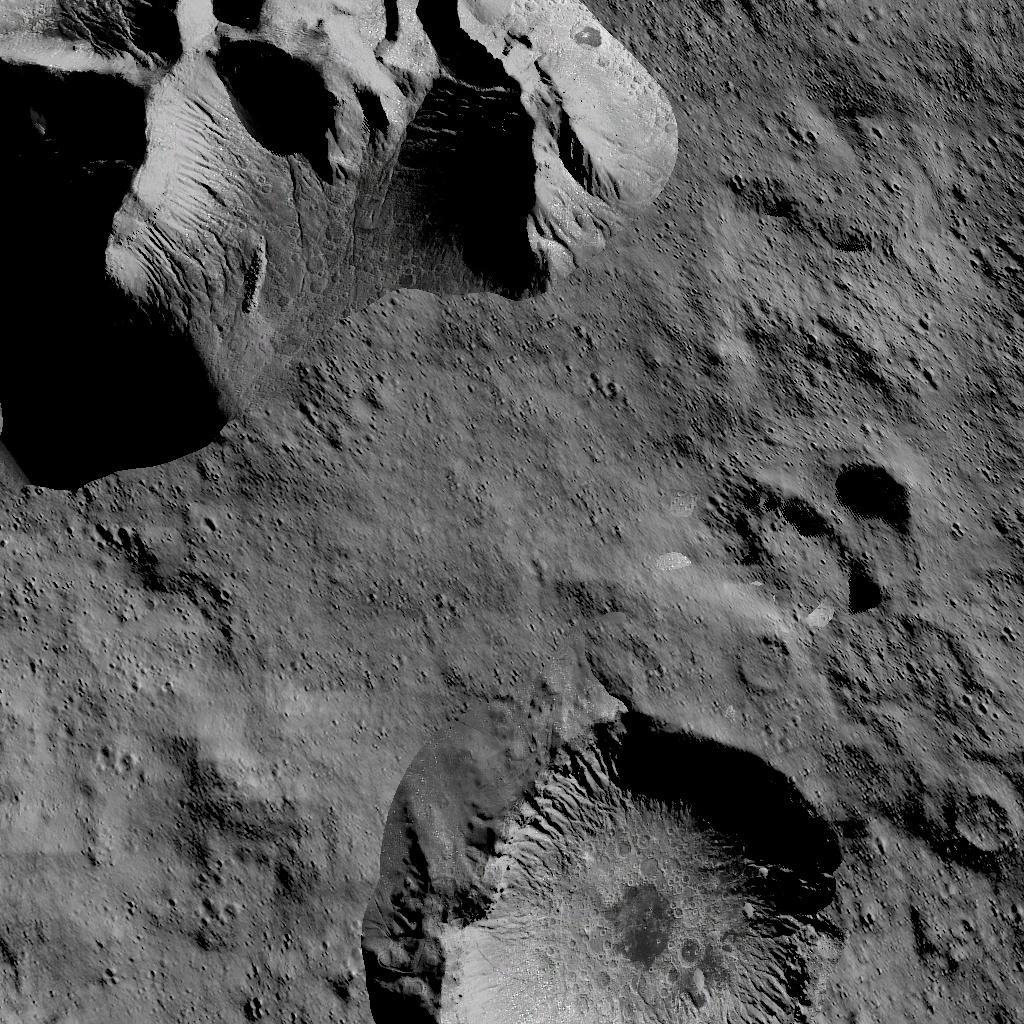Boulders: (0, 0, 674, 489)
Crater: (349, 702, 834, 1024), (732, 450, 918, 614), (935, 776, 1007, 857), (735, 629, 797, 692)
Plan surface: (711, 0, 1024, 441), (3, 512, 650, 686), (3, 696, 301, 1024)
